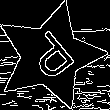P_SE: (19, 25, 82, 87)
